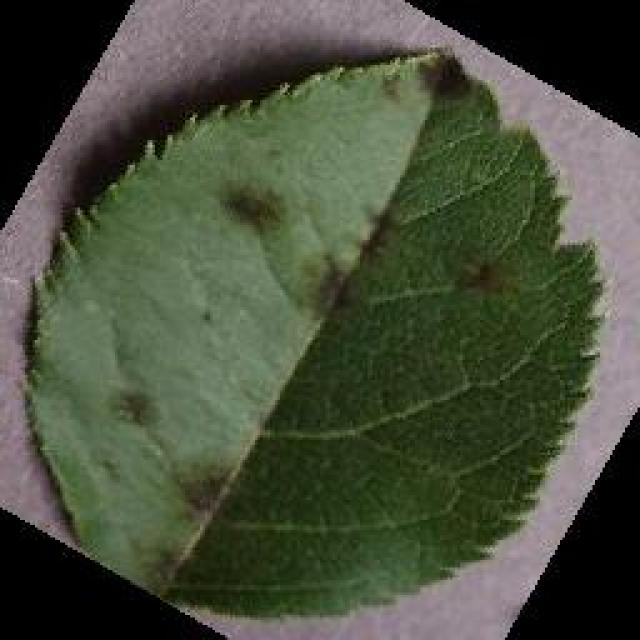apple scab disease: (18, 42, 610, 622)
